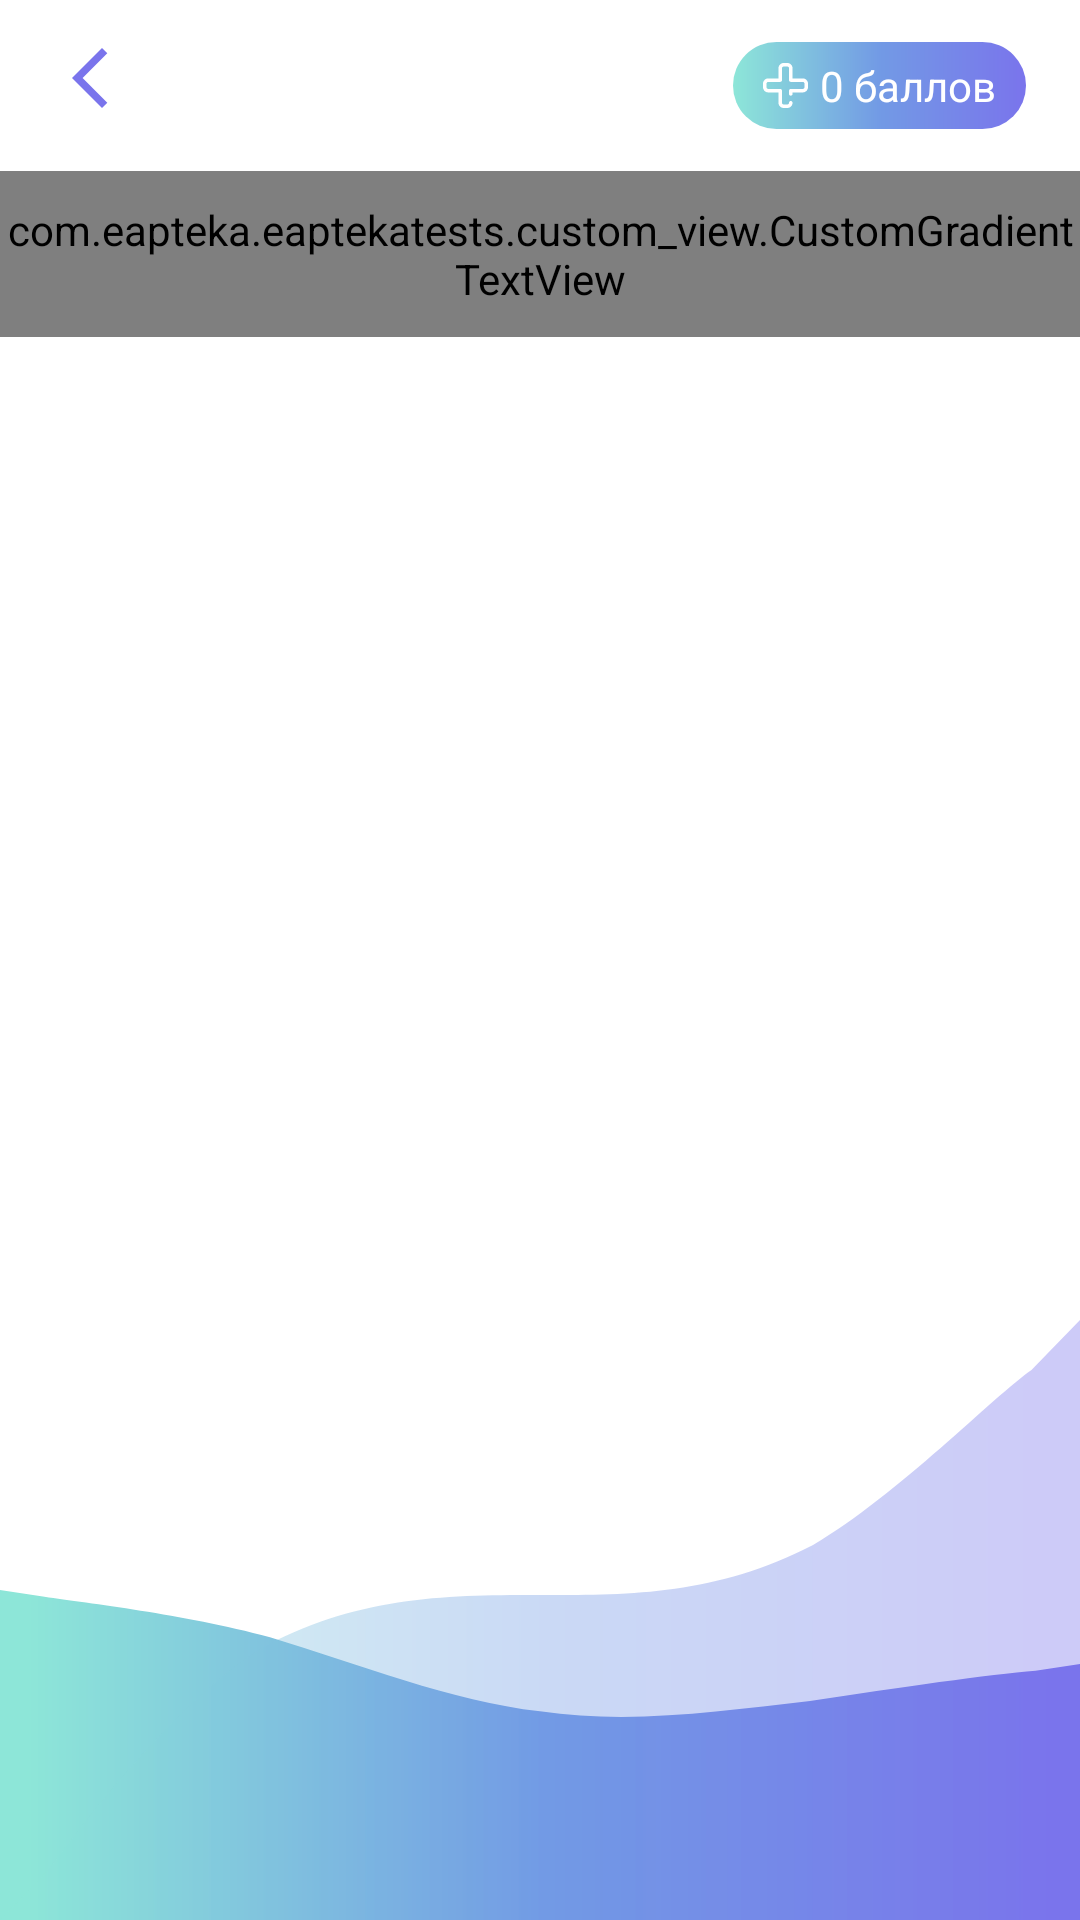

Screen size 1080w x 1920h. Icon name, then its box in pixels as {"left": x1, "top": y1, "right": x2, "bottom": y2}:
arrow back: {"left": 72, "top": 48, "right": 107, "bottom": 108}
